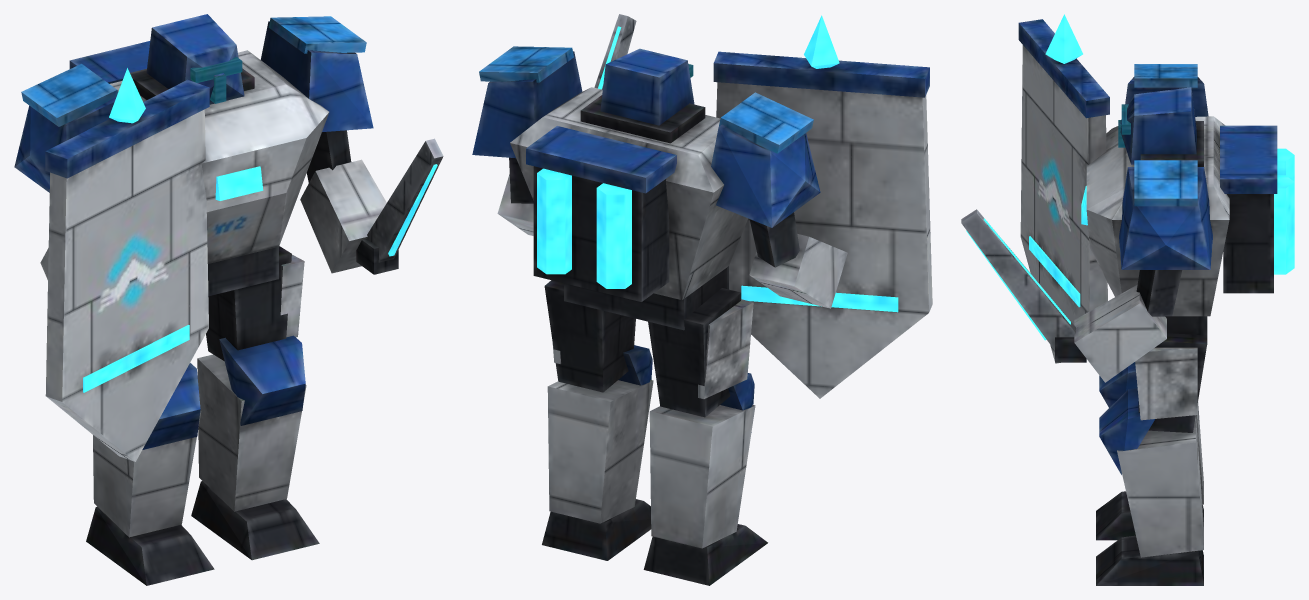
Rendered from u_warden2_w.glb.
The picture shows the model from 3 angles, left to right: view 1: azimuth 30°, elevation 25°; view 2: azimuth 150°, elevation 25°; view 3: azimuth 270°, elevation 25°; orthographic projection. The views are drawn at different scales.
Parts seen in each view (by area): view 1: u_warden2_w; view 2: u_warden2_w; view 3: u_warden2_w.
Boxes of the visible parts, <box> form: u_warden2_w: <box>14,14,443,585</box>; u_warden2_w: <box>472,14,932,585</box>; u_warden2_w: <box>961,14,1294,585</box>.
Bounding box in the file's own units: 1.43 × 1.92 × 1.21.
Materials: 1 (1 with a texture image).
